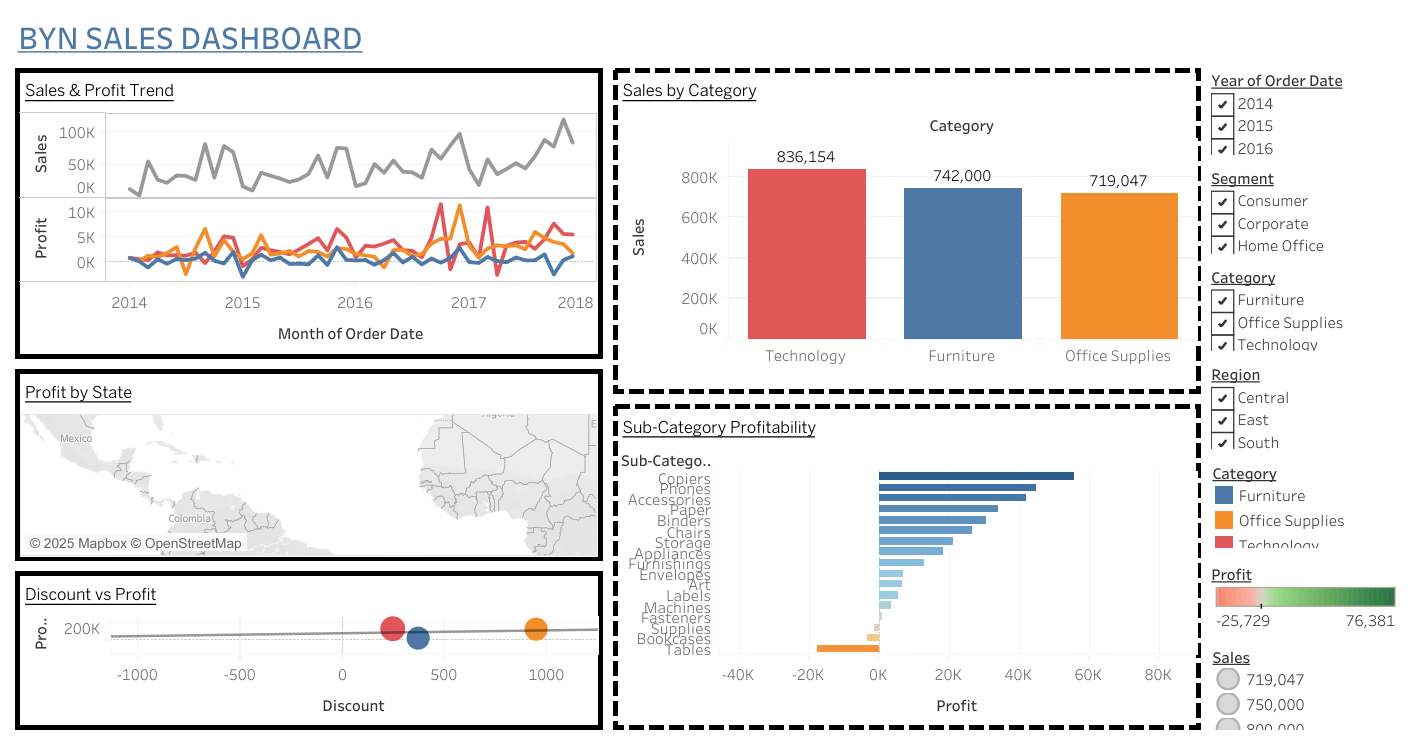

Layout of this report page (visuals, bound fields, positions):
{"tool":"tableau","page":{"name":"Dashboard 1","canvas":[1000,1000],"units":"permille","ordinal":0},"visuals":[{"type":"title","box":[4.8,10,990.3,61.2]},{"type":"worksheet","title":"Sheet 1","mark":"Line","rows":["Sales","Profit"],"cols":["Order Date"],"box":[4.8,71.2,446.9,410.8]},{"type":"worksheet","title":"Sheet 2","mark":"Automatic","rows":["Sales"],"cols":["Category"],"box":[451.7,71.2,446.9,459.4]},{"type":"filter","title":"Sheet 1","param":"[federated.0enaprv1iysium1dpssnd00art0n].[yr:Order Date:ok]","box":[898.6,71.2,96.6,142.3]},{"type":"filter","title":"Sheet 1","param":"[federated.0enaprv1iysium1dpssnd00art0n].[none:Segment:nk]","box":[898.6,213.5,96.6,142.3]},{"type":"filter","title":"Sheet 1","param":"[federated.0enaprv1iysium1dpssnd00art0n].[none:Category:nk]","box":[898.6,355.8,96.6,142.3]},{"type":"worksheet","title":"Sheet 3","mark":"Multipolygon","box":[4.8,482,446.9,278.3]},{"type":"filter","title":"Sheet 1","param":"[federated.0enaprv1iysium1dpssnd00art0n].[none:Region:nk]","box":[898.6,498.1,96.6,142.3]},{"type":"worksheet","title":"Sheet 4","mark":"Automatic","rows":["Sub-Category"],"cols":["Profit"],"box":[451.7,530.6,446.9,459.4]},{"type":"legend","title":"Sheet 1","param":"[federated.0enaprv1iysium1dpssnd00art0n].[none:Category:nk]","box":[898.6,640.4,96.6,116.1]},{"type":"legend","title":"Sheet 3","param":"[federated.0enaprv1iysium1dpssnd00art0n].[sum:Profit:qk]","box":[898.6,756.5,96.6,91.1]},{"type":"worksheet","title":"Sheet 5","mark":"Circle","rows":["Profit"],"cols":["Discount"],"box":[4.8,760.3,446.9,229.7]},{"type":"legend","title":"Sheet 5","param":"[federated.0enaprv1iysium1dpssnd00art0n].[sum:Sales:qk]","box":[898.6,847.7,96.6,142.3]}]}

Visuals, with their boxes on the dashboard's canvas, which has no fixed pixel size, in thousandths of its width and height (x1, y1, x2, y2). These are canvas units, not pixel positions in the 1415x744 screenshot, which may show the page scaled, cropped or inside an application window:
title: crop(5, 10, 995, 71)
"Sheet 1" worksheet (Line marks): crop(5, 71, 452, 482)
"Sheet 2" worksheet: crop(452, 71, 899, 531)
"Sheet 1" filter: crop(899, 71, 995, 214)
"Sheet 1" filter: crop(899, 214, 995, 356)
"Sheet 1" filter: crop(899, 356, 995, 498)
"Sheet 3" worksheet (Multipolygon marks): crop(5, 482, 452, 760)
"Sheet 1" filter: crop(899, 498, 995, 640)
"Sheet 4" worksheet: crop(452, 531, 899, 990)
"Sheet 1" legend: crop(899, 640, 995, 756)
"Sheet 3" legend: crop(899, 756, 995, 848)
"Sheet 5" worksheet (Circle marks): crop(5, 760, 452, 990)
"Sheet 5" legend: crop(899, 848, 995, 990)
